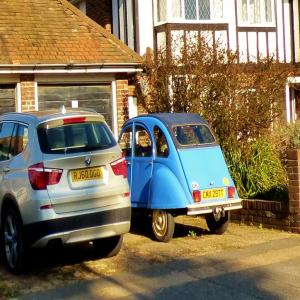Vehicle-registration-plate: (71, 167, 104, 183), (202, 190, 227, 202)
